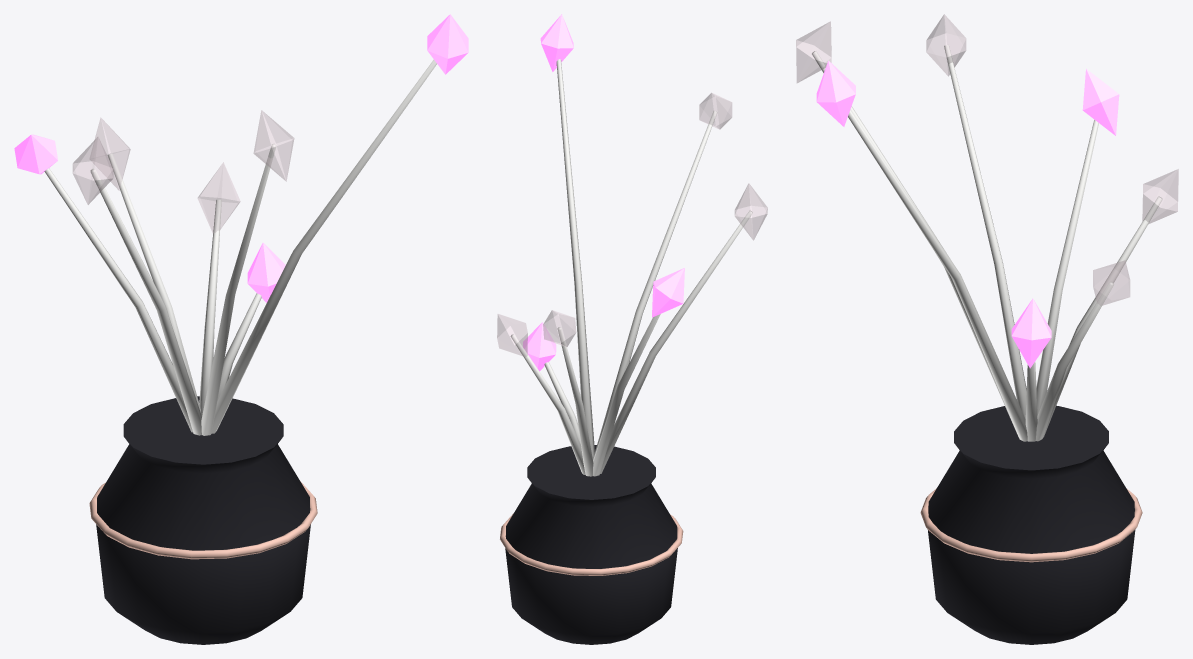
The model's file is ag_planter.glb.
The picture shows the model from 3 angles, left to right: view 1: azimuth 30°, elevation 25°; view 2: azimuth 150°, elevation 25°; view 3: azimuth 270°, elevation 25°; orthographic projection. The views are drawn at different scales.
Parts seen in each view (by area): view 1: ag_planter; view 2: ag_planter; view 3: ag_planter.
Part boxes in pixels (left/top/right/bottom): ag_planter: left=14, top=14, right=468, bottom=644; ag_planter: left=497, top=14, right=767, bottom=644; ag_planter: left=796, top=14, right=1178, bottom=644.
Size of the model in its own units: 1.64 by 2.98 by 1.65.
